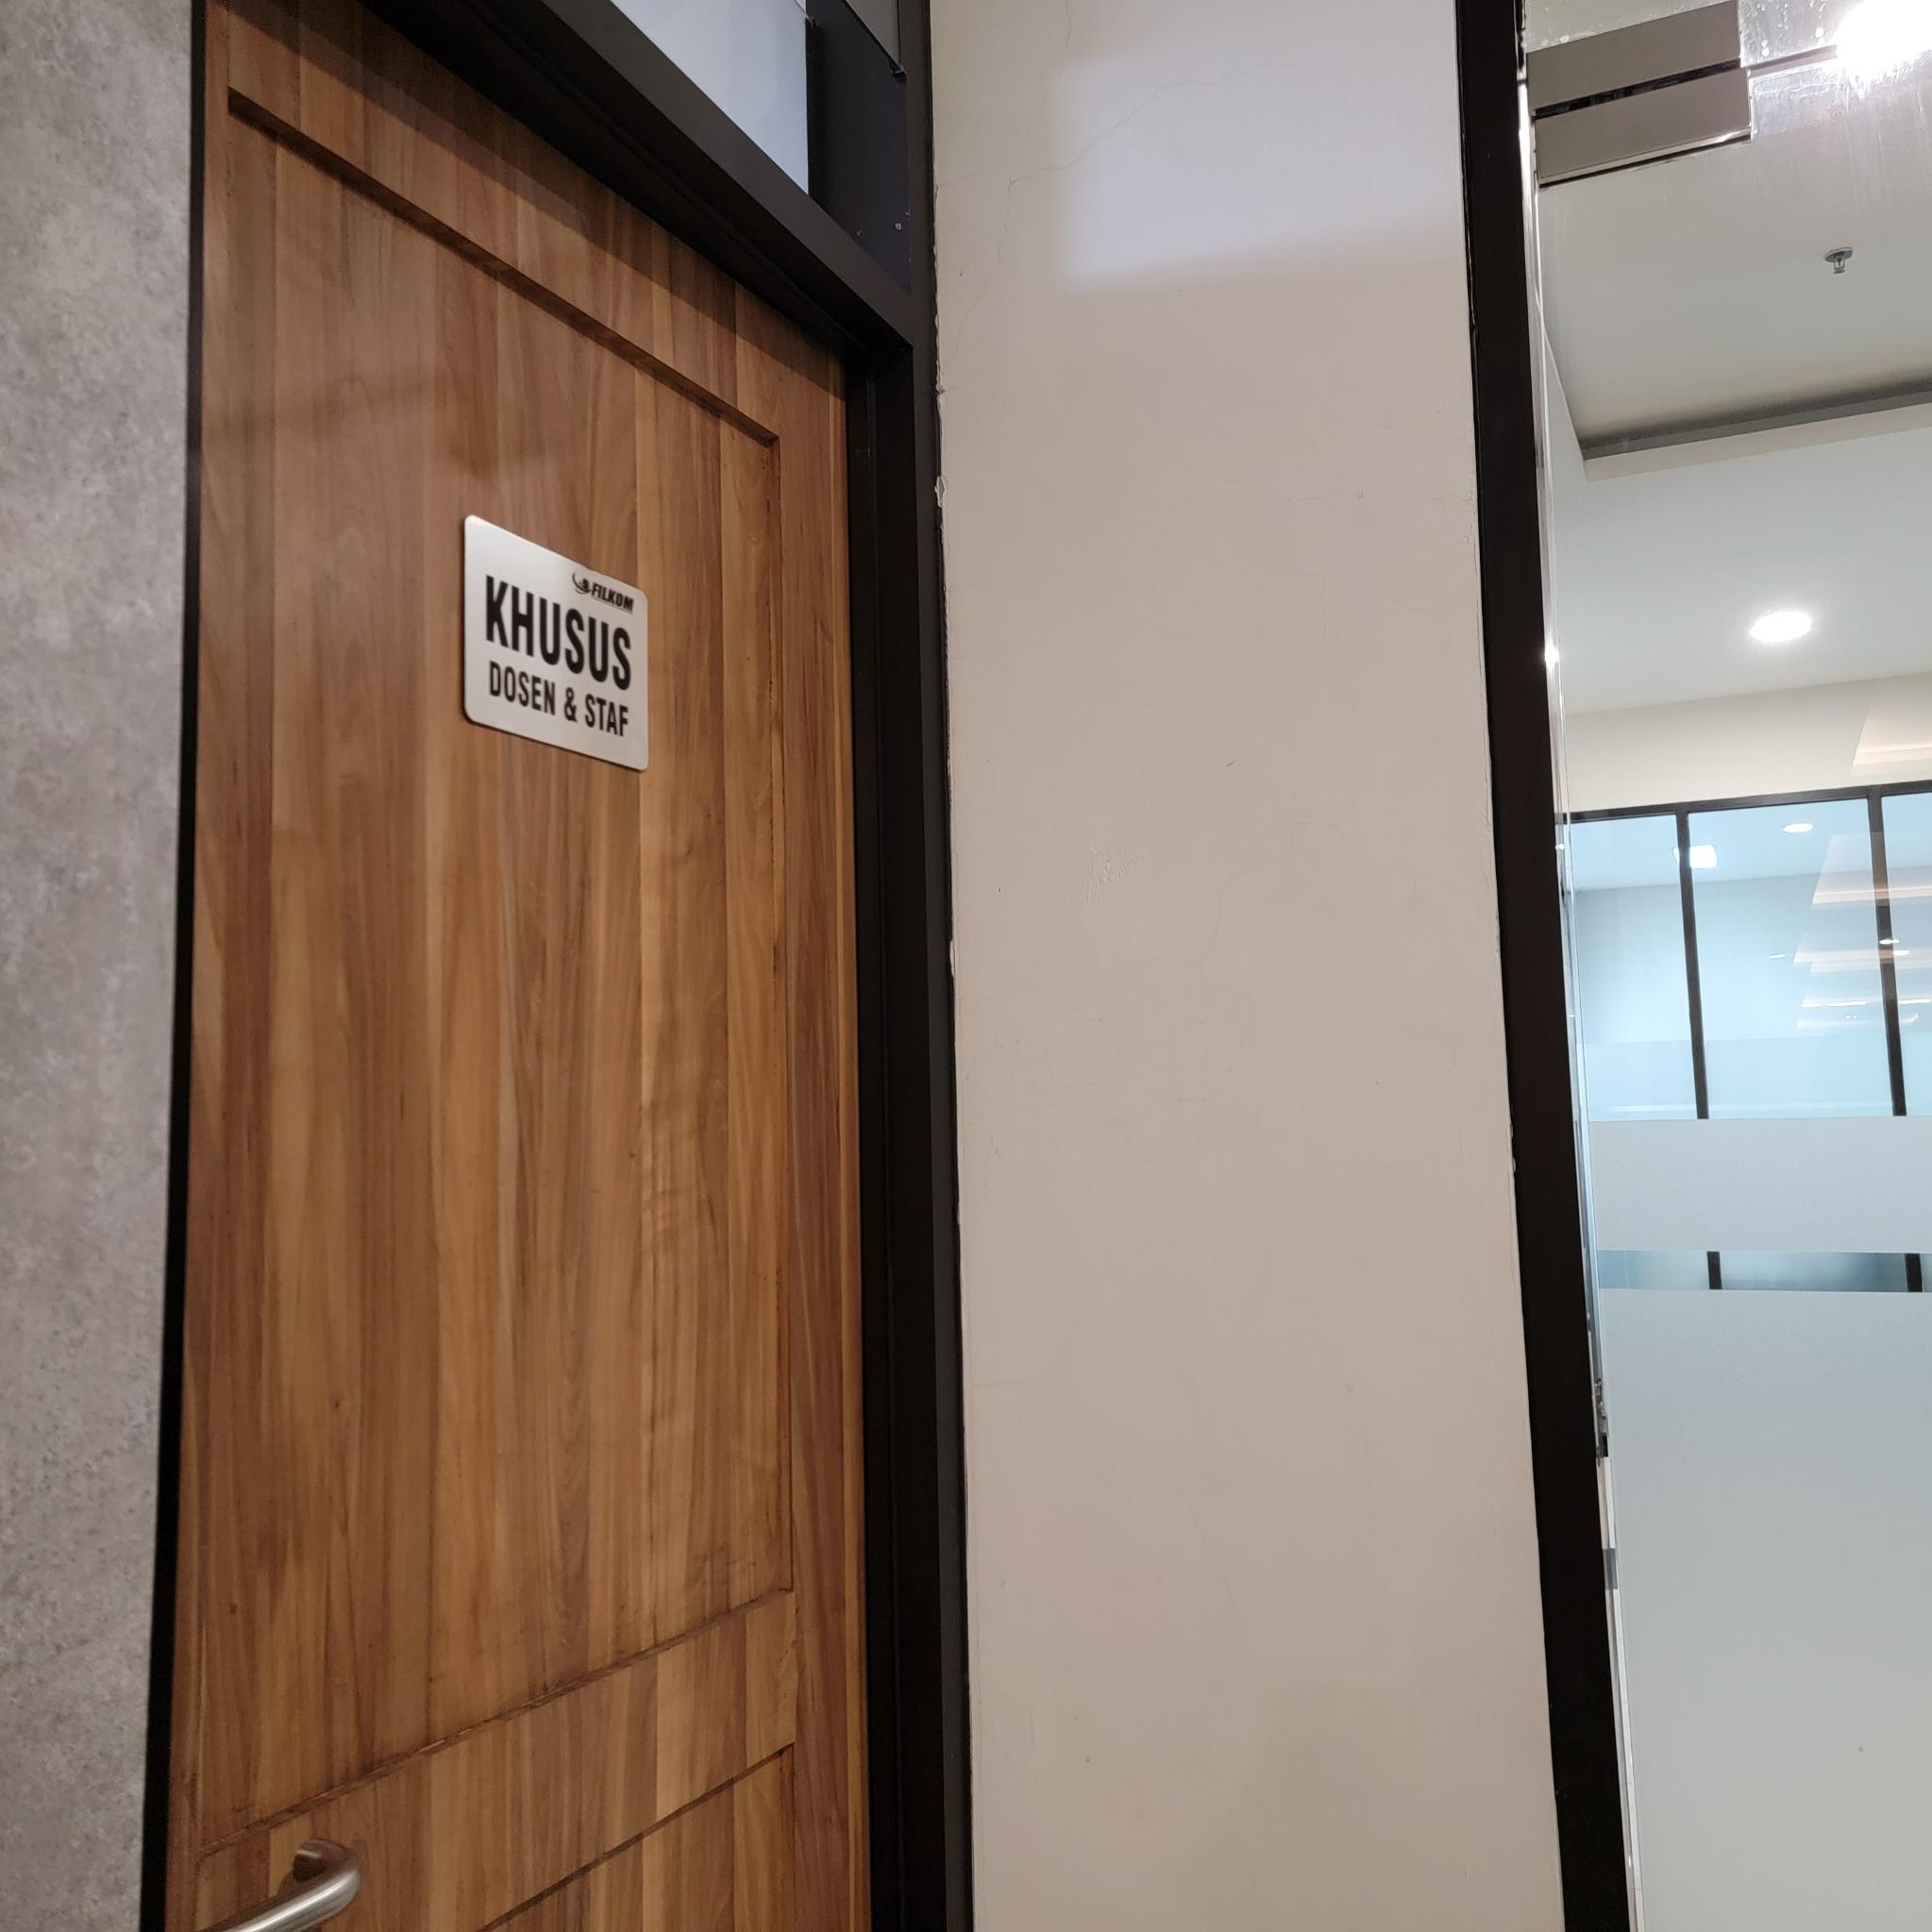plate: (462, 511, 649, 777)
